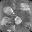people: (0, 17, 12, 28), (3, 6, 15, 16), (14, 16, 22, 25)
